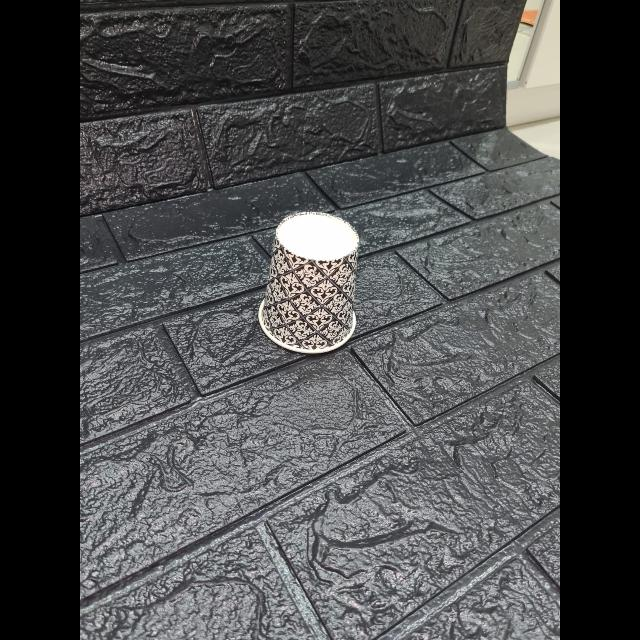trash: (252, 212, 368, 352)
